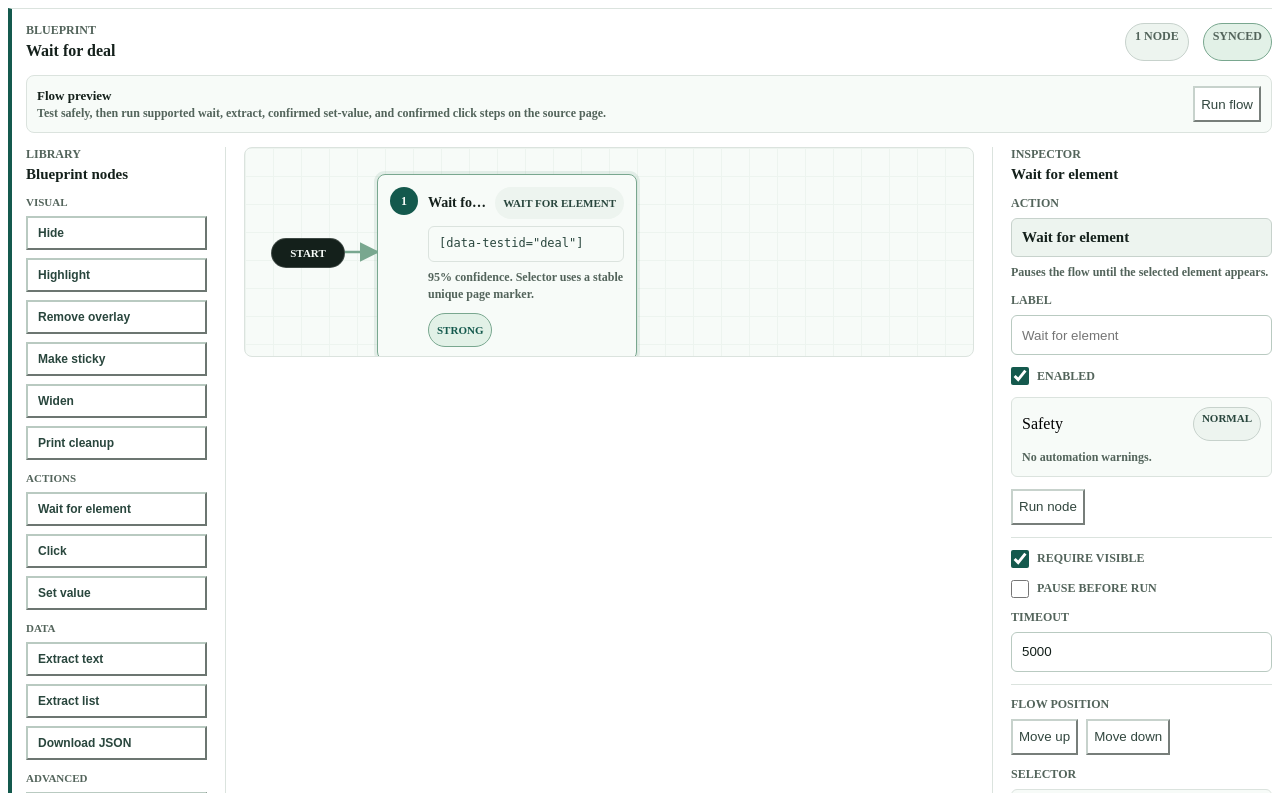
Test case: BlueprintPreview › runs supported automation nodes against the source page
Click the button "Run node". click: (1048, 507)
box: [1011,489,1085,525]
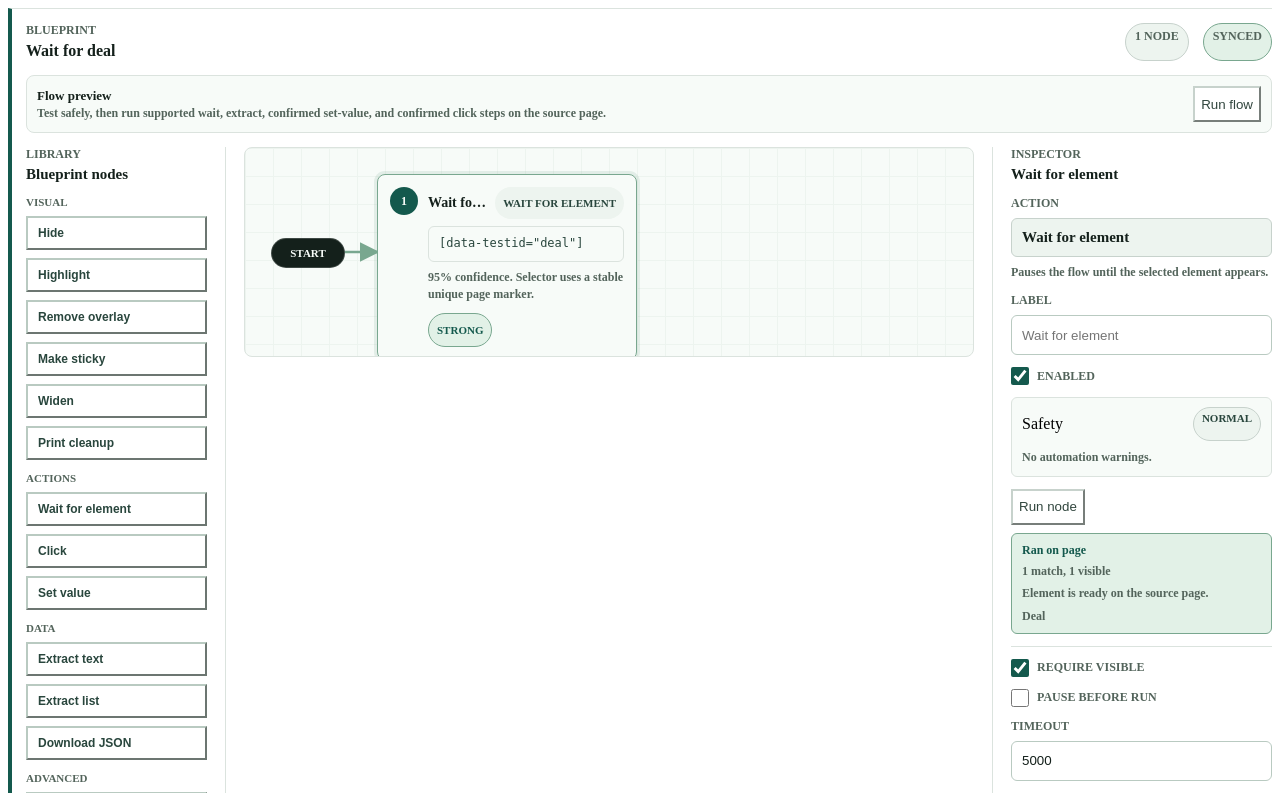
Check: the text "Ran on page" is shown, box [1022,543,1086,557]
Check: the text "1 match, 1 visible" is shown, box [1022,564,1111,578]
Check: the text "Element is ready on the source page." is shown, box [1022,586,1208,600]
